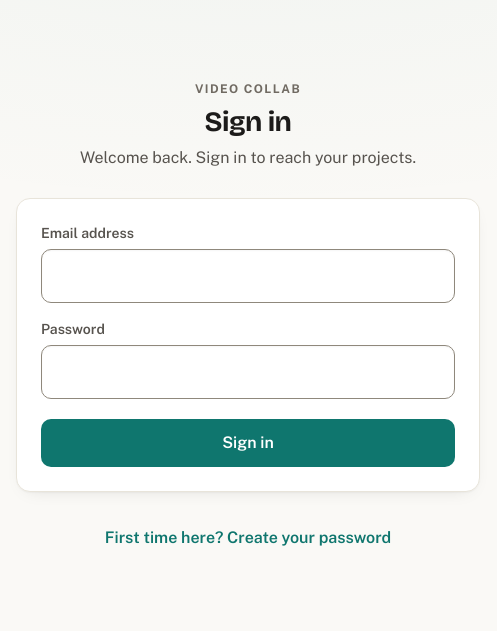
Test: SignInPage › treats a success response without a session as a failure
The image size is (497, 631).
Type "a@b.com" into the field labelled "Email address".
click(248, 276); type("a@b.com")  # box left=41, top=248, right=455, bottom=302
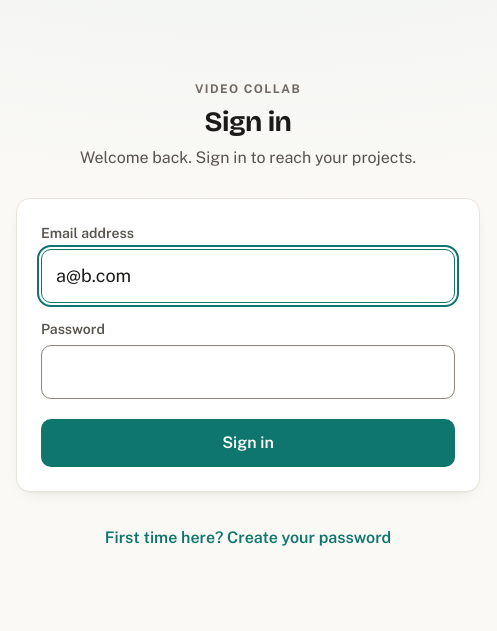
Type "secret123" into the password field labelled "Password".
click(248, 372); type("secret123")  # box left=41, top=344, right=455, bottom=398
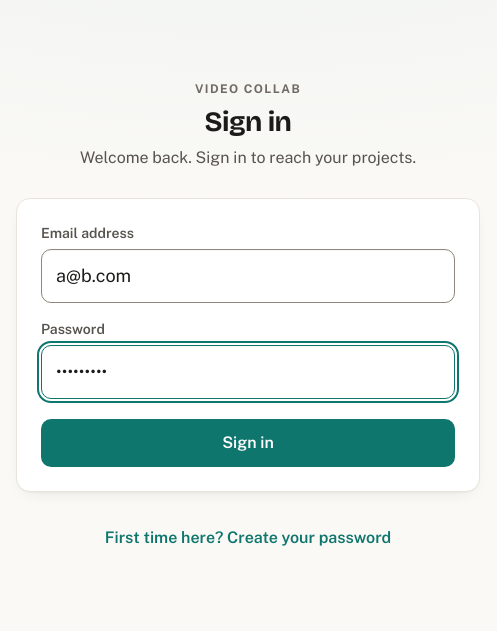
Click the button "Sign in".
click(248, 442)  # box left=41, top=418, right=455, bottom=466
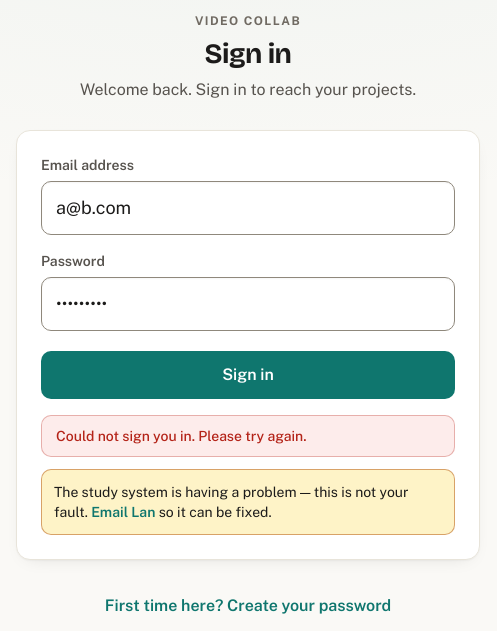
Expected: the text "Could not sign you in. Please try again." is shown, left=41, top=414, right=455, bottom=456
